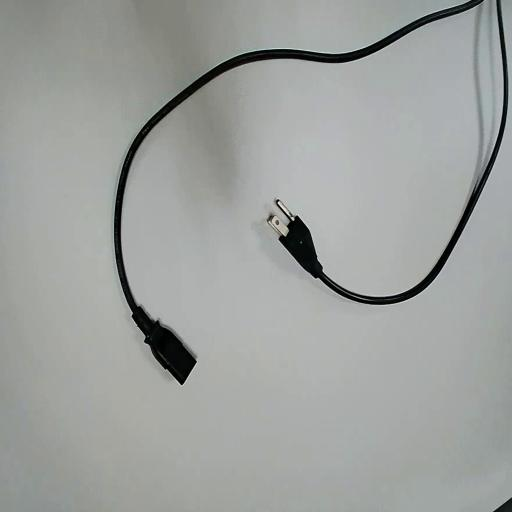wire: (115, 0, 481, 382), (280, 0, 506, 303)
